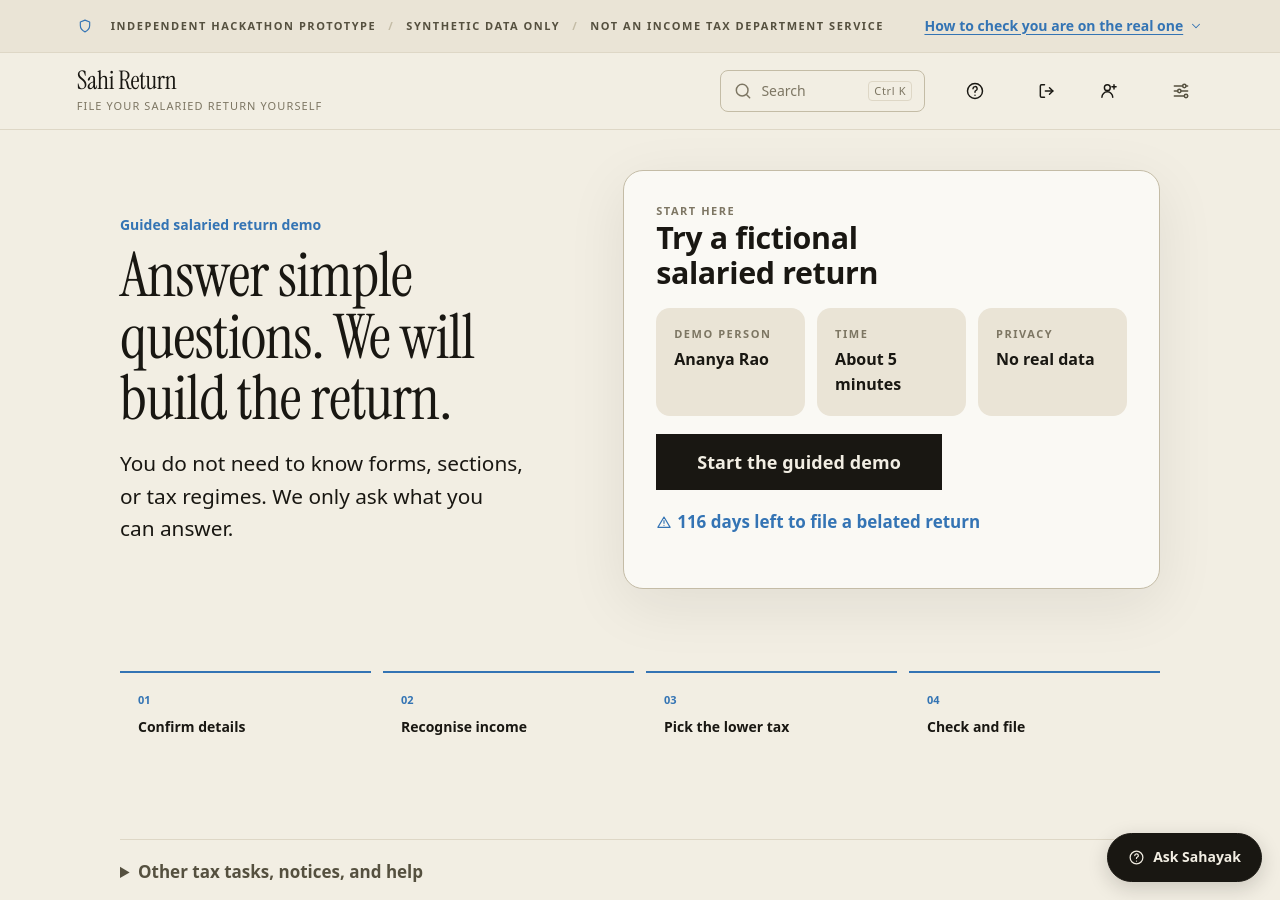
Test: language selection › labels incomplete translations as previews
The width and height of the screenshot is (1280, 900).
Click the button named "Settings": (1181, 91) [1159, 69, 1203, 113]
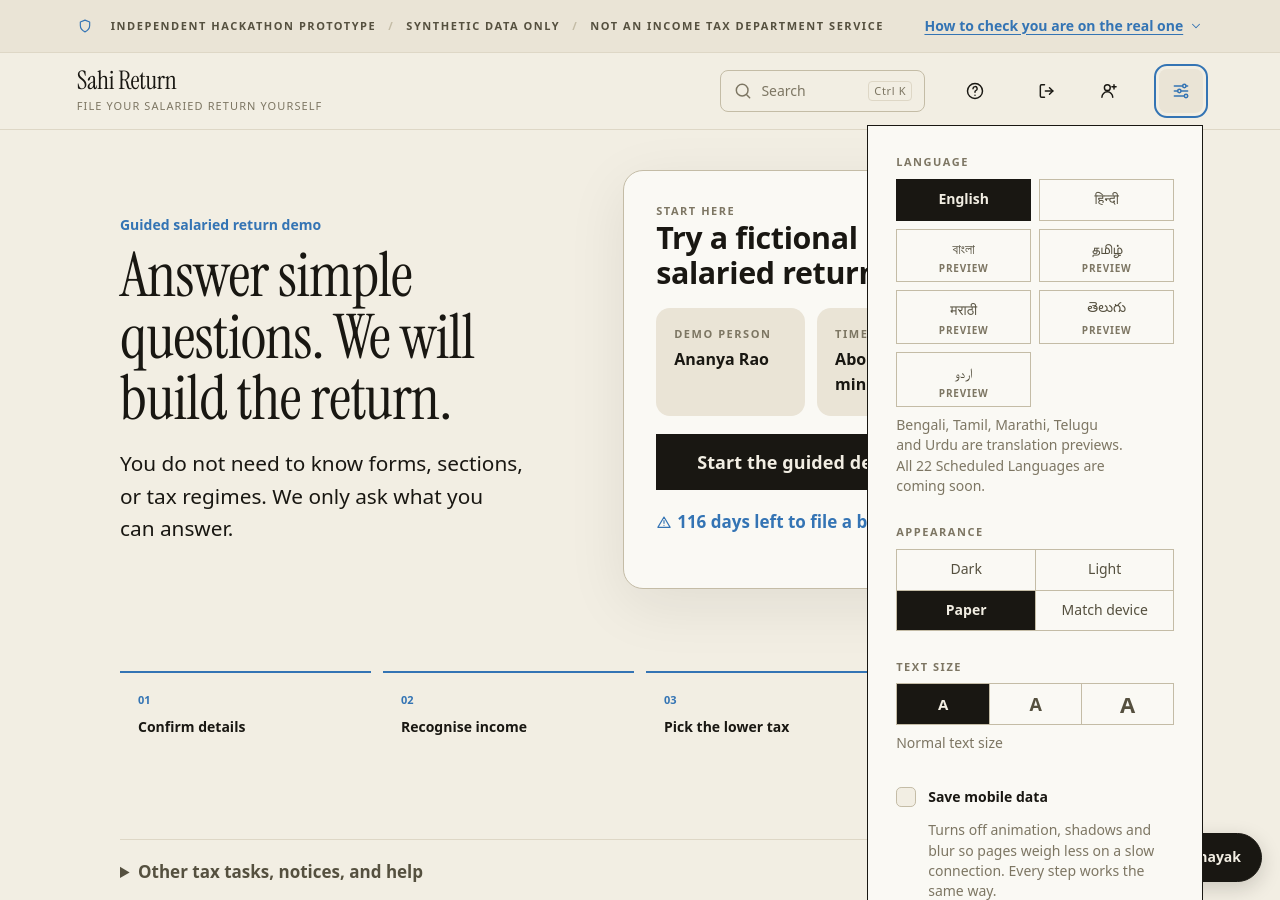
Check: the text "Preview" is shown 5 times, box [939, 262, 989, 274]; [1082, 262, 1132, 274]; [939, 324, 989, 336]; [1082, 324, 1132, 336]; [939, 387, 989, 399]
Check: the text "Bengali, Tamil, Marathi, Telugu and Urdu are translation previews. All 22 Scheduled Languages are coming soon." is shown, box [896, 415, 1123, 495]
